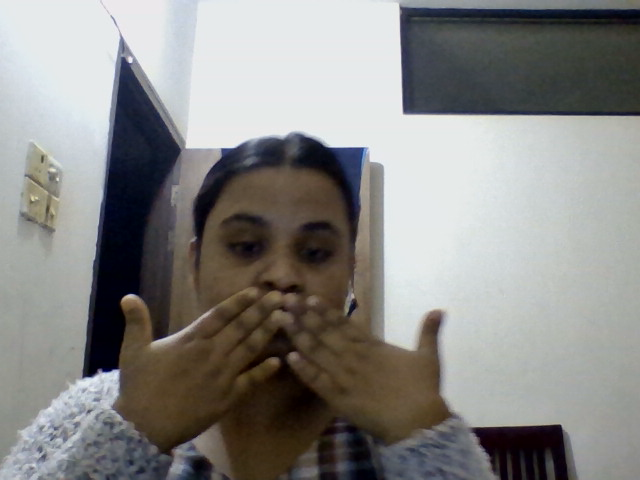Thank You: (83, 123, 501, 427)
